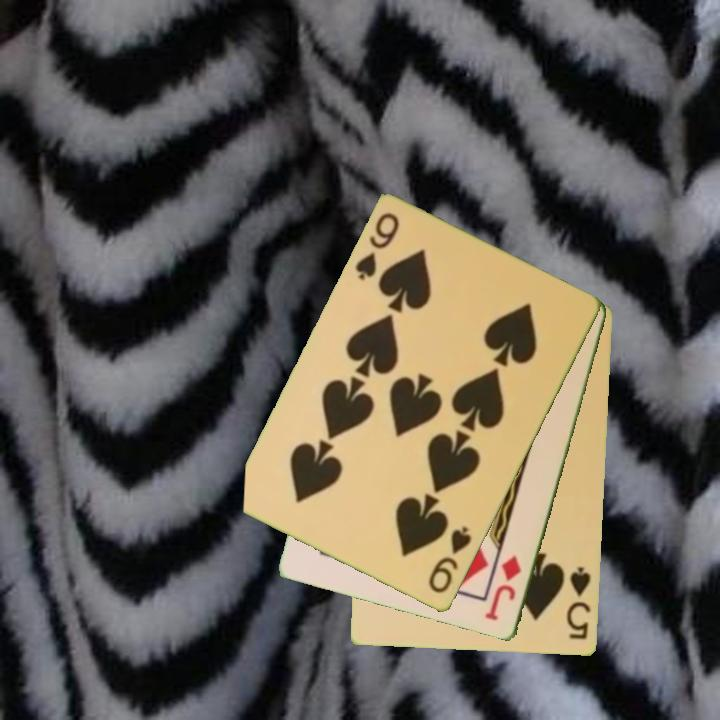5s: (563, 564, 594, 643)
9s: (352, 209, 403, 284), (425, 523, 475, 597)
Jd: (481, 552, 525, 624)
